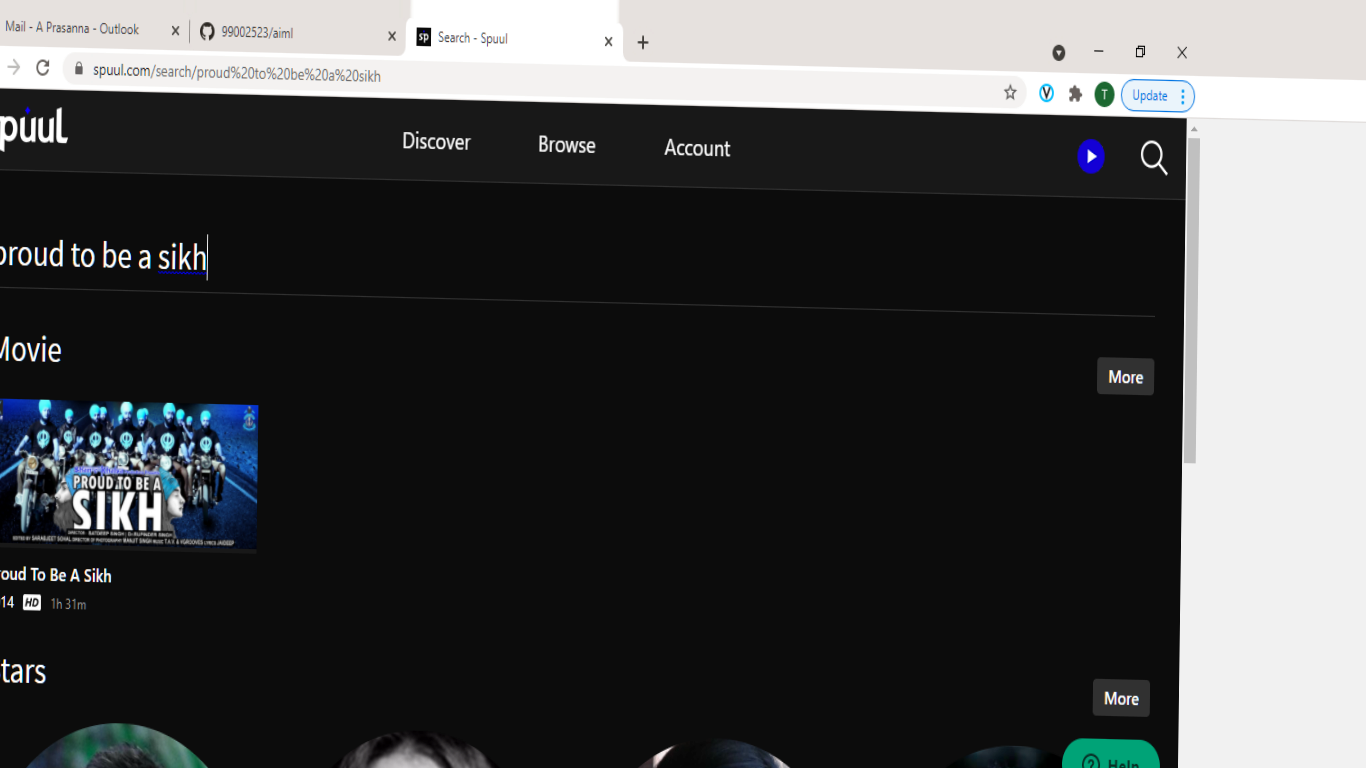myaccountbutton: (645, 122, 768, 174)
searchicon: (1131, 120, 1186, 198)
searchtextbox: (1, 216, 1159, 326)
